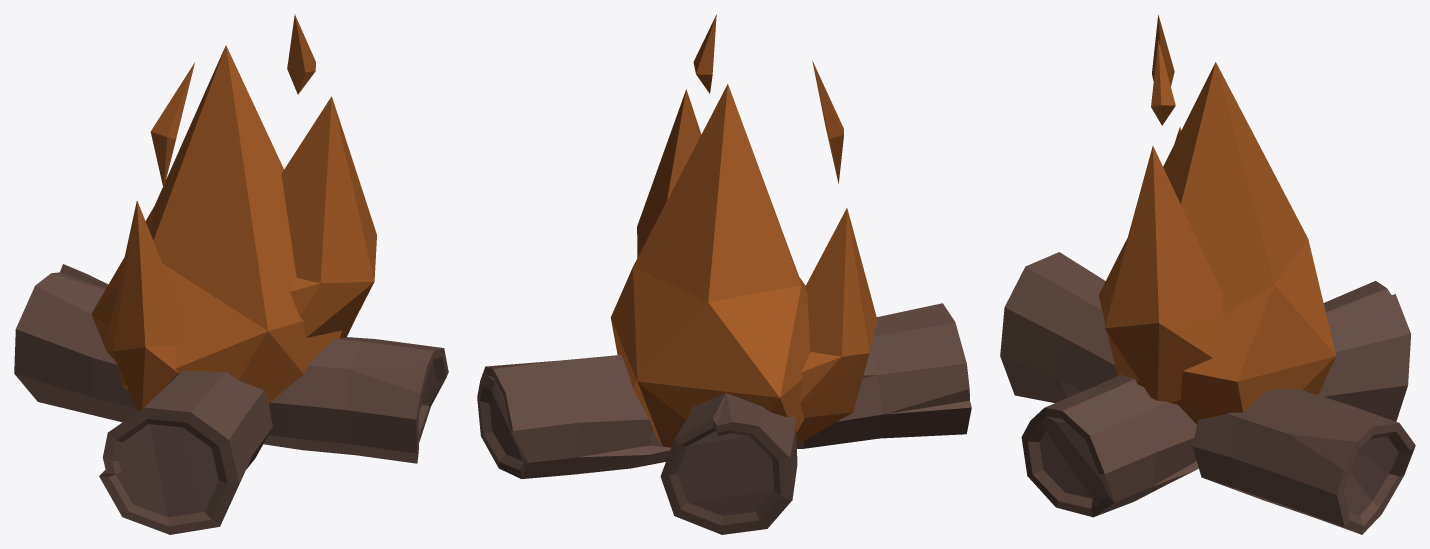
File: Bonfire_Fire.glb
3 views of the same model, side by side, from view 1: azimuth 30°, elevation 25°; view 2: azimuth 150°, elevation 25°; view 3: azimuth 270°, elevation 25° (orthographic). The views are drawn at different scales.
Parts seen in each view (by area): view 1: Fire, Wood, LightWood; view 2: Fire, Wood, LightWood; view 3: Wood, Fire, LightWood.
Part boxes in pixels (left/top/right/bottom): Fire: left=91, top=14, right=376, bottom=411; Wood: left=14, top=264, right=448, bottom=534; LightWood: left=116, top=363, right=436, bottom=517; Fire: left=610, top=14, right=877, bottom=447; Wood: left=477, top=303, right=971, bottom=534; LightWood: left=489, top=381, right=773, bottom=515; Wood: left=1000, top=252, right=1415, bottom=534; Fire: left=1098, top=15, right=1335, bottom=424; LightWood: left=1039, top=421, right=1398, bottom=515.
Bounding box in the file's own units: 2.18 × 2.31 × 1.98.
